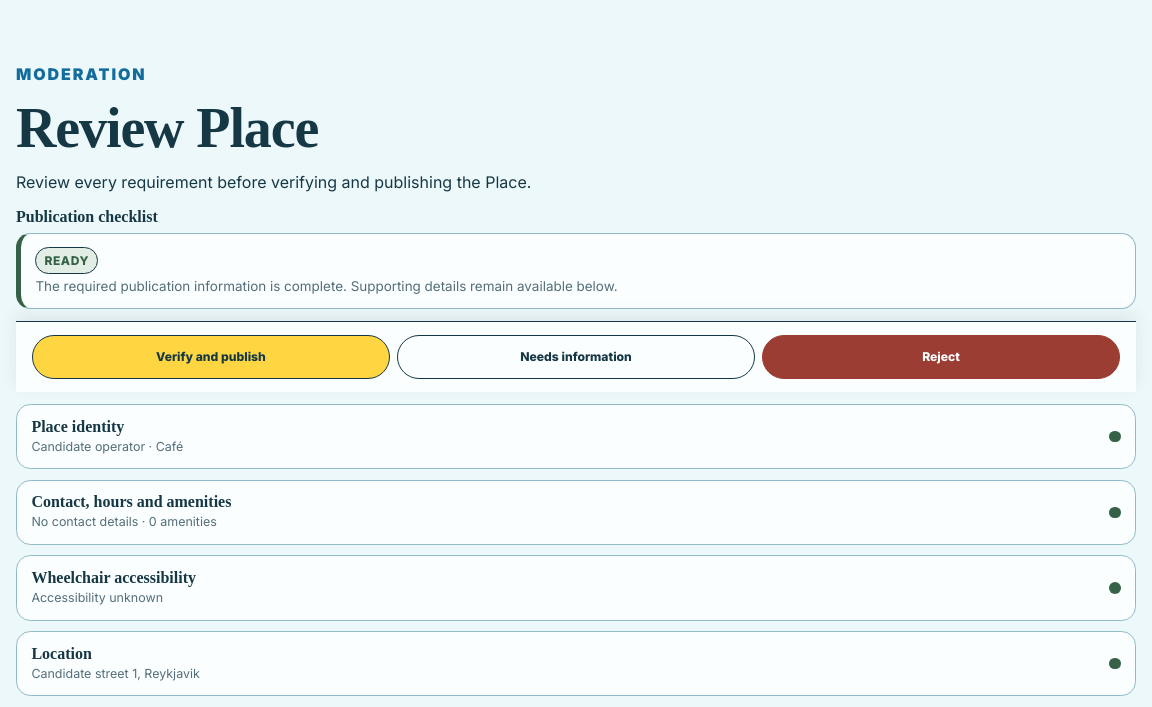
CandidateReviewPanel › reports unsaved edits and guards every standalone Candidate decision until save or cancel
Expected: the button "Verify and publish" is enabled, [32,335,390,379]
Expected: the button "Needs information" is enabled, [397,335,755,379]
Click the heading "Place identity Candidate operator · Café" at x=78, y=426, box [31,418,1121,454]
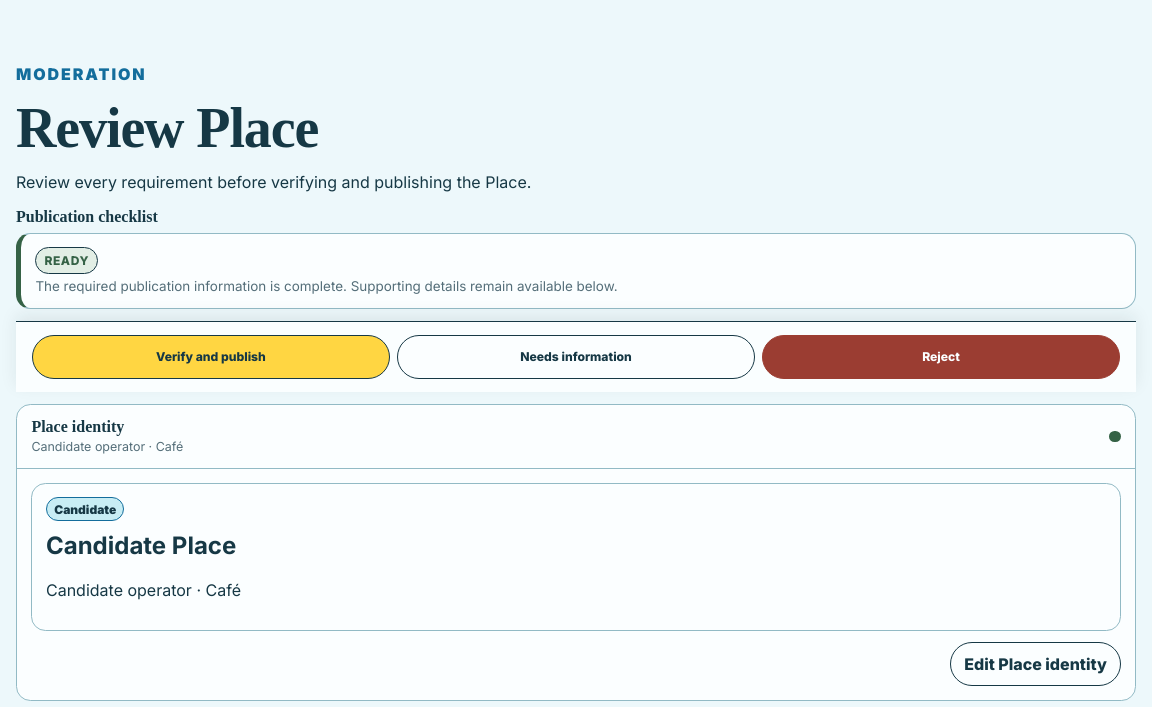
Click the button "Edit Place identity" at x=1036, y=664, box [950,642,1121,686]
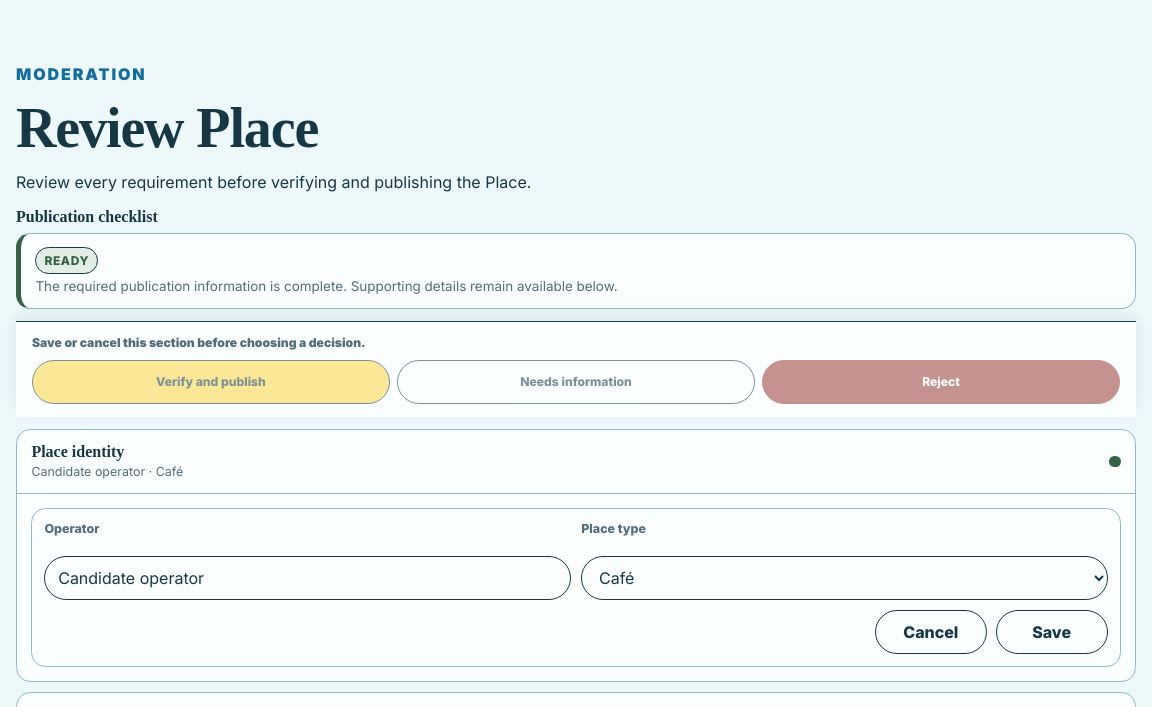
Expected: the text "Save or cancel this section before choosing a decision." is shown, [32,335,366,350]
Expected: the button "Verify and publish" is disabled, [32,360,390,404]
Expected: the button "Needs information" is disabled, [397,360,755,404]
Click the button "Cancel" at x=931, y=632, box [875,610,987,654]
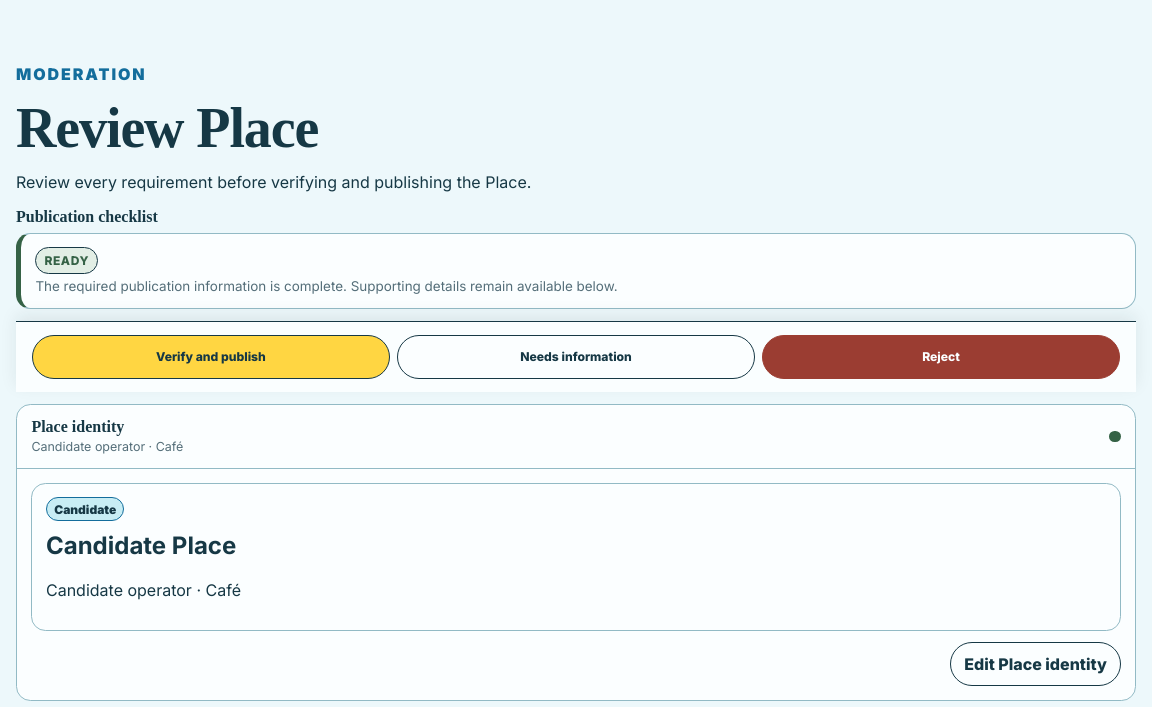
Expected: the button "Verify and publish" is enabled, [32,335,390,379]
